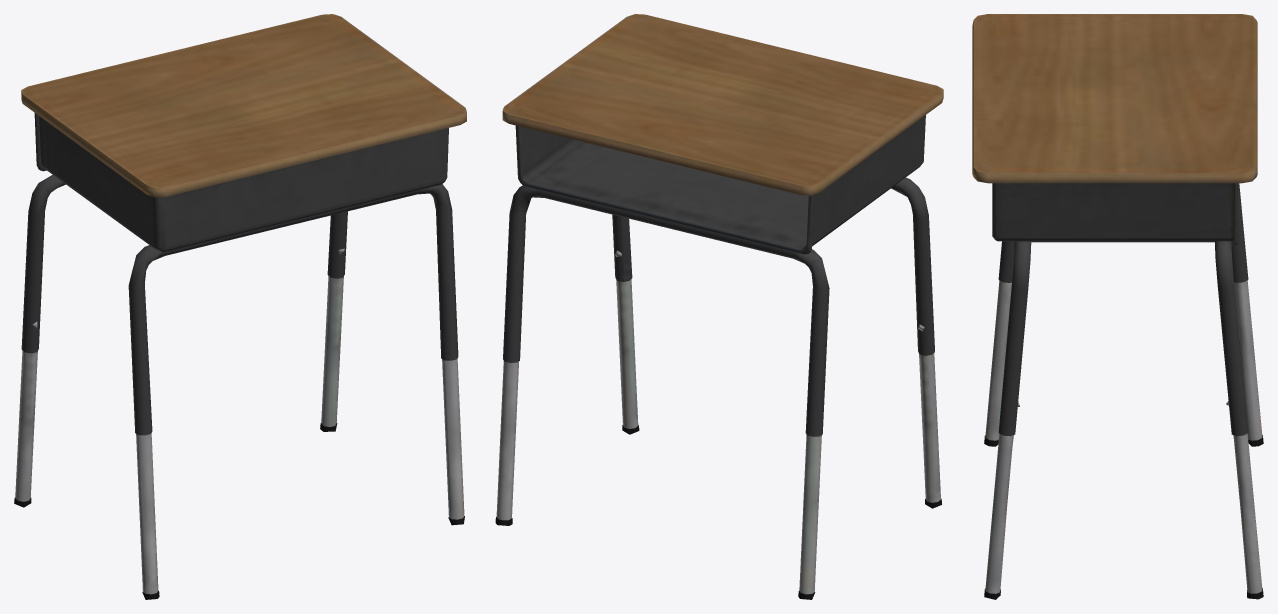
The model's file is student_desk_lod1.glb.
3 renders of one model, left to right at view 1: azimuth 30°, elevation 25°; view 2: azimuth 150°, elevation 25°; view 3: azimuth 270°, elevation 25°, orthographic. The views are drawn at different scales.
Bounding box in the file's own units: 0.7118 × 0.8818 × 0.546.
1 material, 1 textured.
